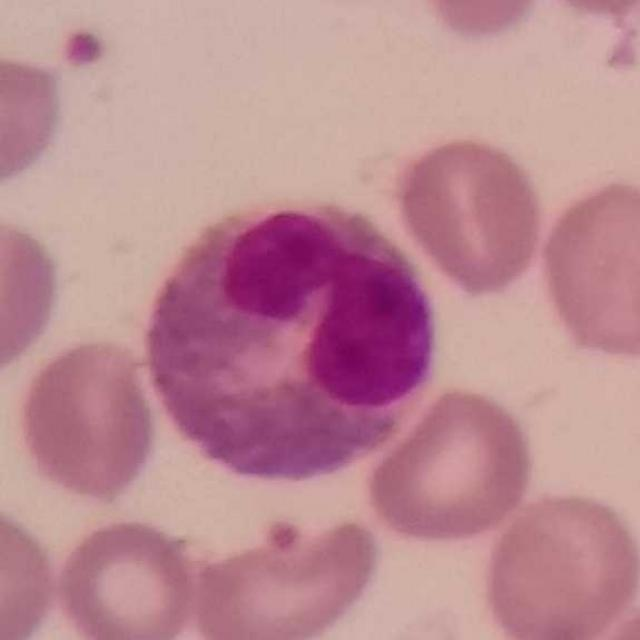Eosinophil: (141, 183, 439, 486)
Platelets: (58, 23, 111, 72), (260, 515, 308, 558)
RBC: (359, 380, 540, 548), (9, 332, 164, 508), (391, 129, 550, 300), (186, 506, 386, 640), (475, 485, 640, 640), (532, 173, 640, 365), (51, 514, 200, 640), (0, 203, 68, 386), (0, 37, 72, 200), (0, 500, 62, 640), (404, 0, 551, 46), (525, 0, 640, 20)
